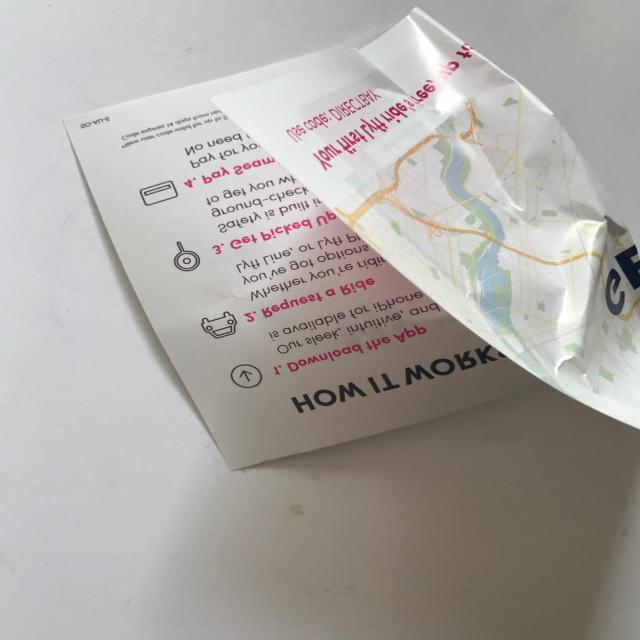paper: (50, 0, 640, 493)
